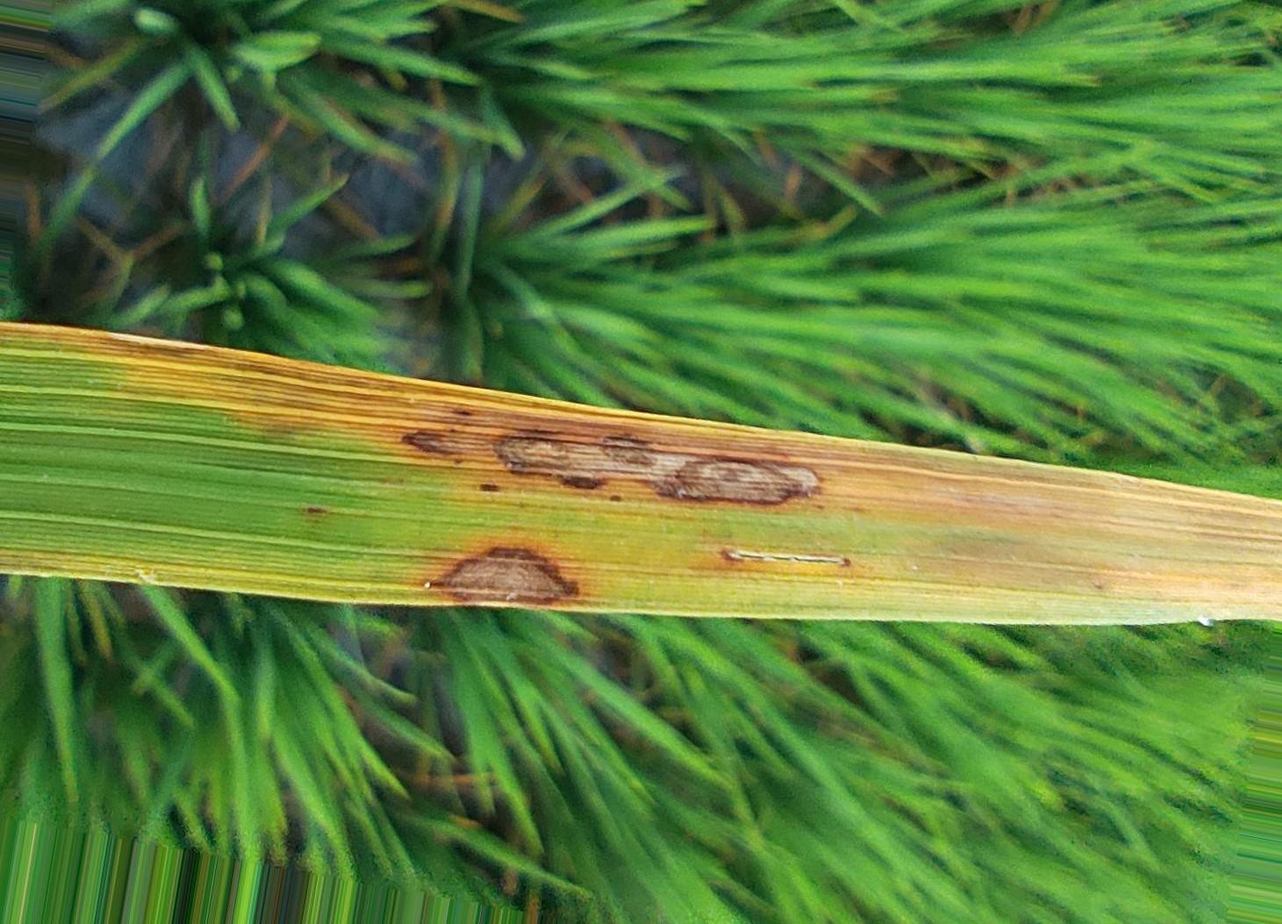LEAF BLAST: (492, 432, 818, 505), (434, 547, 577, 603), (720, 550, 856, 568), (402, 430, 454, 454)
